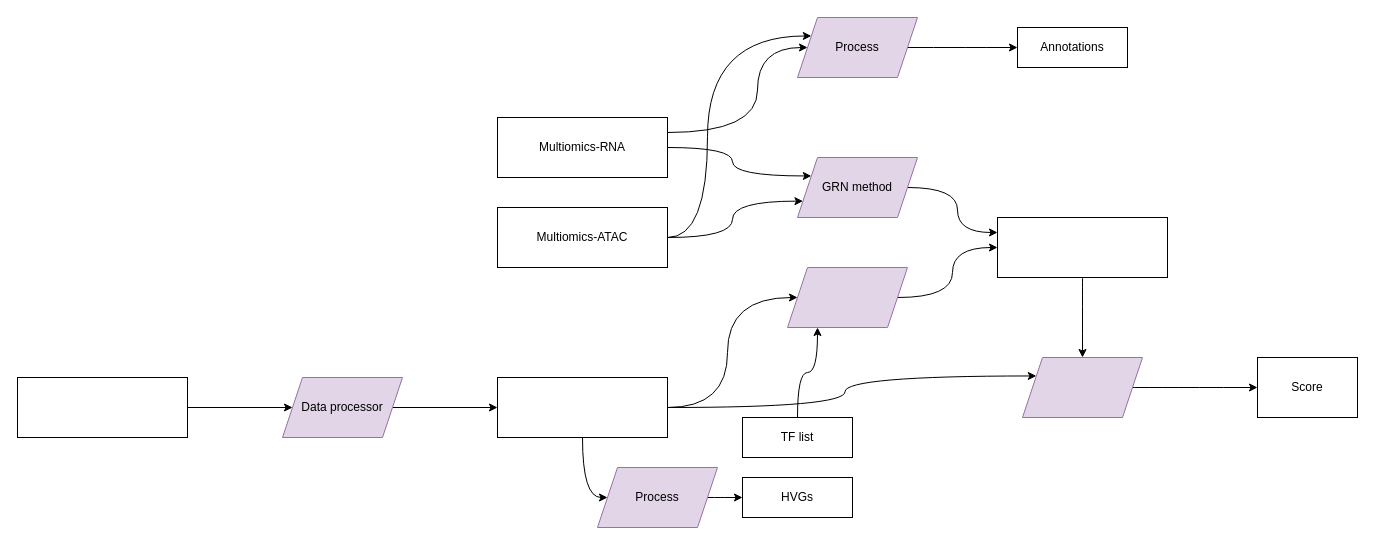
The diagram is 1375 pixels wide and 545 high, and some of its shapes have lost their labels. The shapes that lost their labels are listed below. From the top down, each one's box as (x1, y1, x2, y2) in pixels, then its label:
(996, 216, 1168, 278): Inferred GRN
(786, 266, 908, 328): Positive-control
(16, 376, 188, 438): sc-counts
(496, 376, 668, 438): Perturbation data
(1022, 356, 1142, 418): Metric
